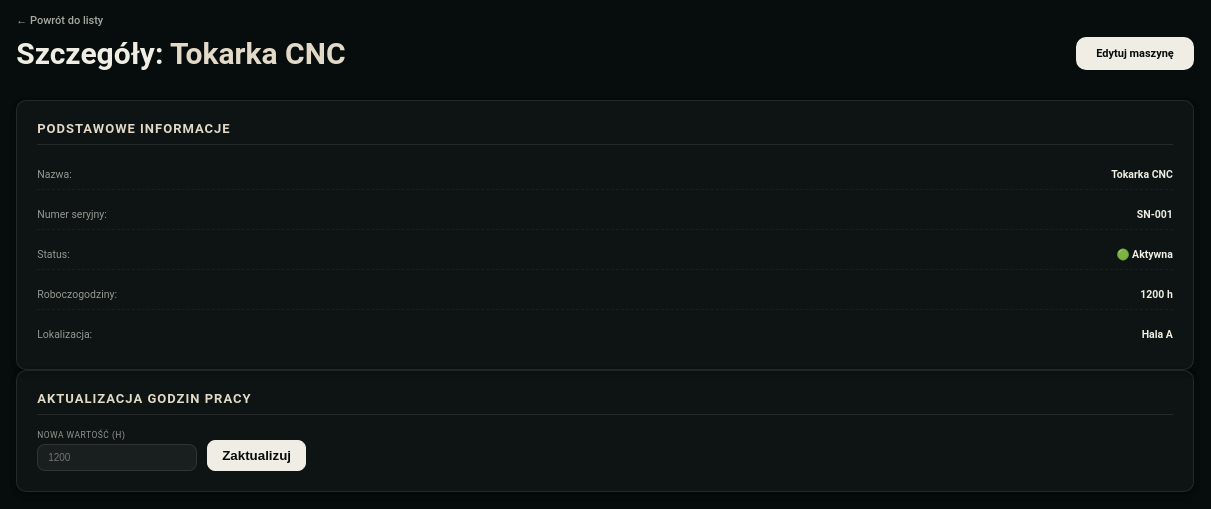
Test case: MachineDetailsPage › aktualizacja godzin pracy › wyświetla Zapisywanie... podczas aktualizacji
Type "1500" into the number field at (117, 458), box [37, 444, 197, 471]
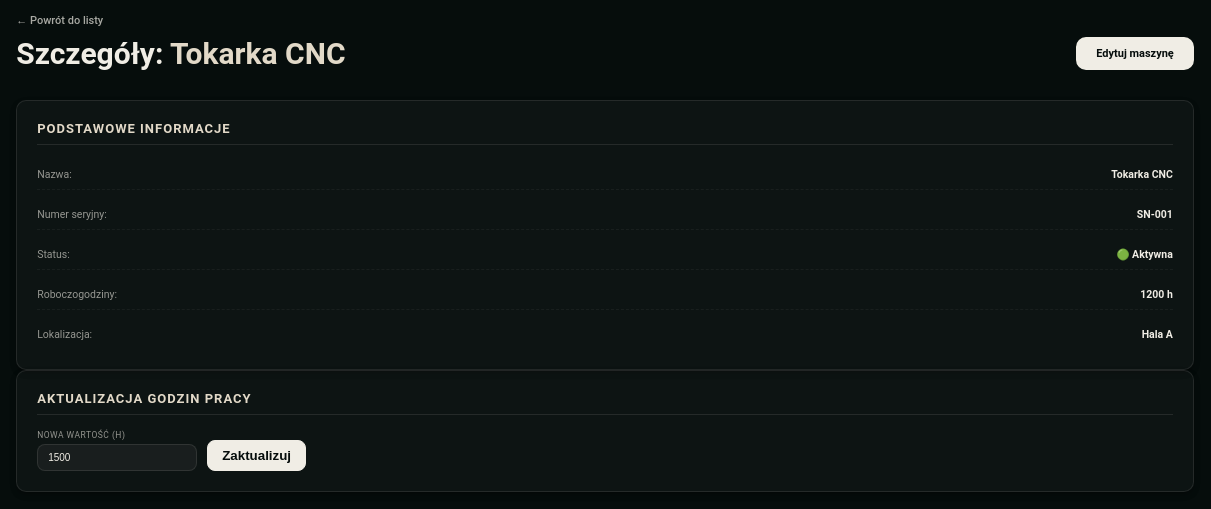
Submit the form "Zaktualizuj", box [37, 430, 306, 471]
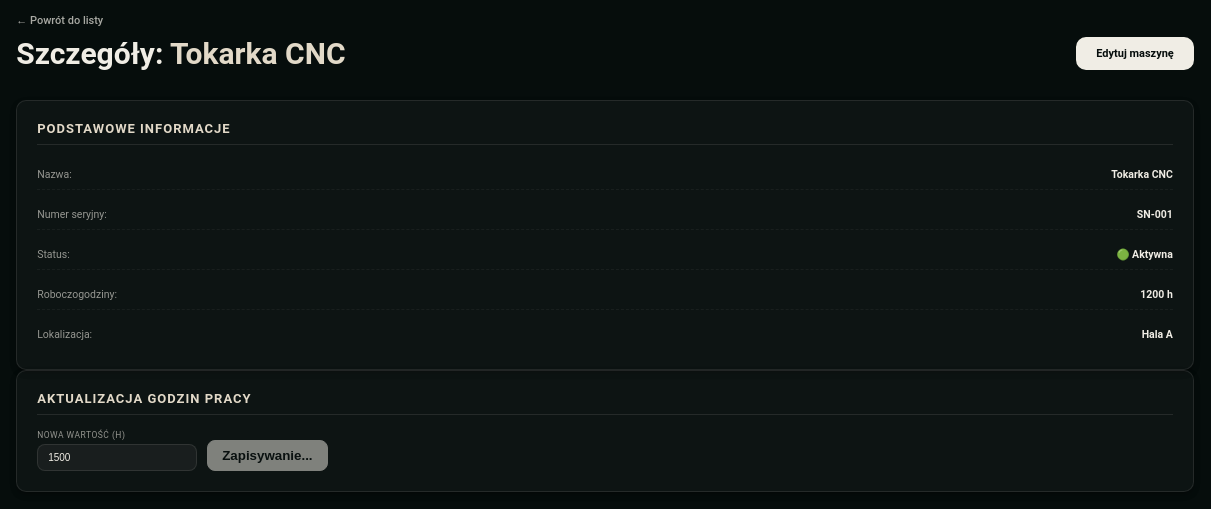
Check: the button "Zapisywanie..." is disabled, box [207, 440, 328, 471]
